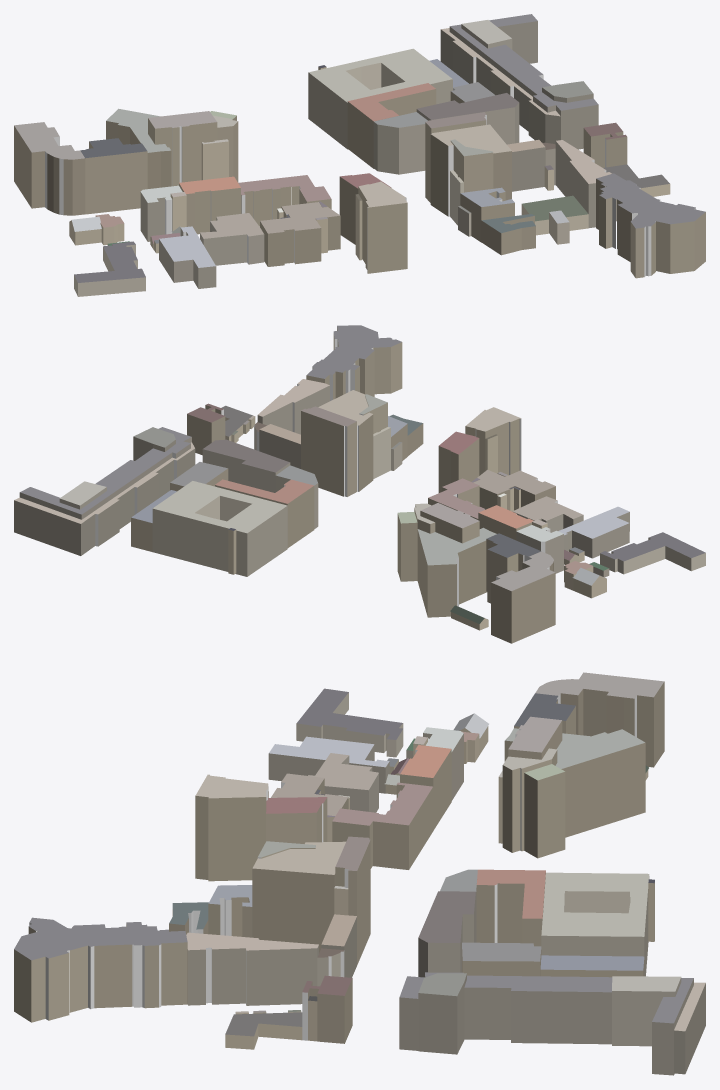
The picture shows the model from 3 angles, top to bottom: view 1: azimuth 30°, elevation 25°; view 2: azimuth 150°, elevation 25°; view 3: azimuth 270°, elevation 25°; orthographic projection. The views are drawn at different scales.
Visible parts, largest first — view 1: tuile; view 2: tuile; view 3: tuile.
Part boxes in pixels (left/top/right/bottom): tuile: left=14, top=14, right=705, bottom=296; tuile: left=14, top=325, right=705, bottom=643; tuile: left=14, top=672, right=705, bottom=1075.
Bounding box in the file's own units: 301 × 38.02 × 242.
